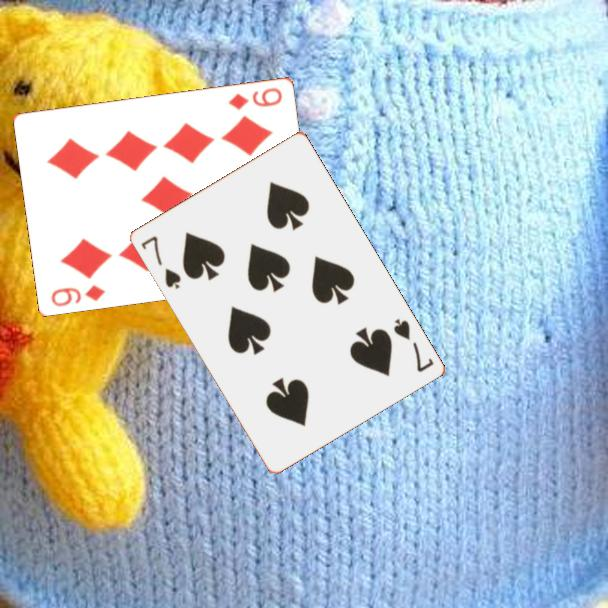d09: (225, 84, 285, 113), (48, 281, 108, 309)
s07: (137, 232, 184, 292), (390, 315, 437, 375)
